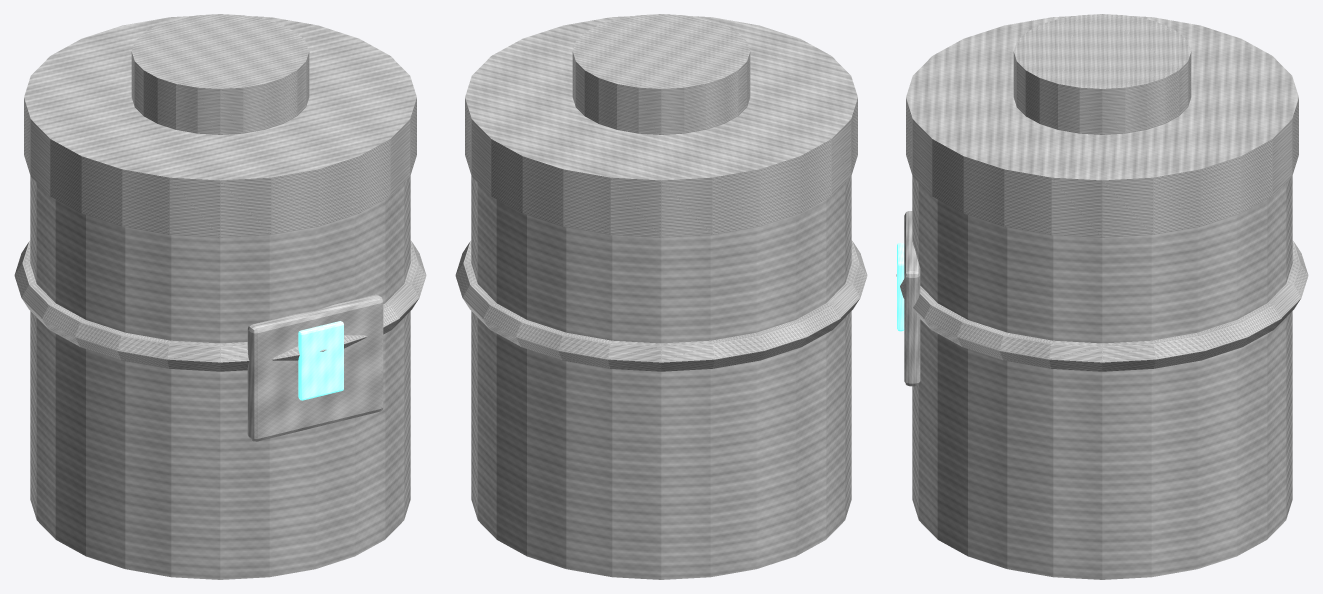
The model's file is item-packaged-fuel_variant_a.glb.
3 renders of one model, left to right at view 1: azimuth 30°, elevation 25°; view 2: azimuth 150°, elevation 25°; view 3: azimuth 270°, elevation 25°, orthographic.
Visible parts, largest first — view 1: Container shell.001, Container top.001, Container cap.001, Fluid label, Container seam.001, Fill window; view 2: Container shell.001, Container top.001, Container cap.001, Container seam.001; view 3: Container shell.001, Container top.001, Container cap.001, Container seam.001, Fluid label, Fill window.
Part boxes in pixels (left/top/right/bottom): Container shell.001: left=30, top=176, right=410, bottom=579; Container top.001: left=24, top=16, right=416, bottom=237; Container cap.001: left=131, top=14, right=309, bottom=134; Fluid label: left=247, top=294, right=383, bottom=441; Container seam.001: left=14, top=240, right=426, bottom=371; Fill window: left=298, top=321, right=343, bottom=400; Container shell.001: left=471, top=176, right=851, bottom=579; Container top.001: left=465, top=16, right=857, bottom=237; Container cap.001: left=572, top=14, right=750, bottom=134; Container seam.001: left=455, top=240, right=867, bottom=371; Container shell.001: left=912, top=176, right=1292, bottom=579; Container top.001: left=906, top=16, right=1298, bottom=237; Container cap.001: left=1013, top=14, right=1191, bottom=134; Container seam.001: left=896, top=240, right=1308, bottom=371; Fluid label: left=904, top=211, right=920, bottom=386; Fill window: left=897, top=243, right=904, bottom=331.
Size of what is drawn, in the model's own units: 0.65 by 0.78 by 0.65.
5 materials, 5 textured.
